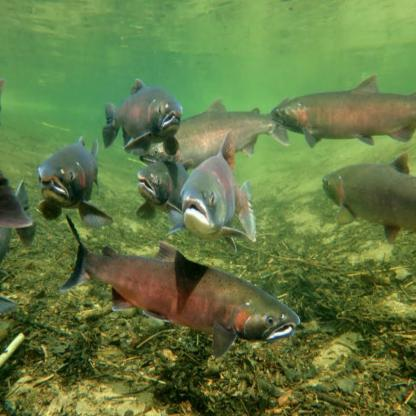sockeye: (65, 238, 295, 348), (278, 79, 412, 150), (184, 148, 254, 236), (159, 108, 272, 162), (327, 169, 411, 224), (99, 87, 171, 145), (39, 142, 98, 212)
sockeye-group: (5, 67, 410, 344)
